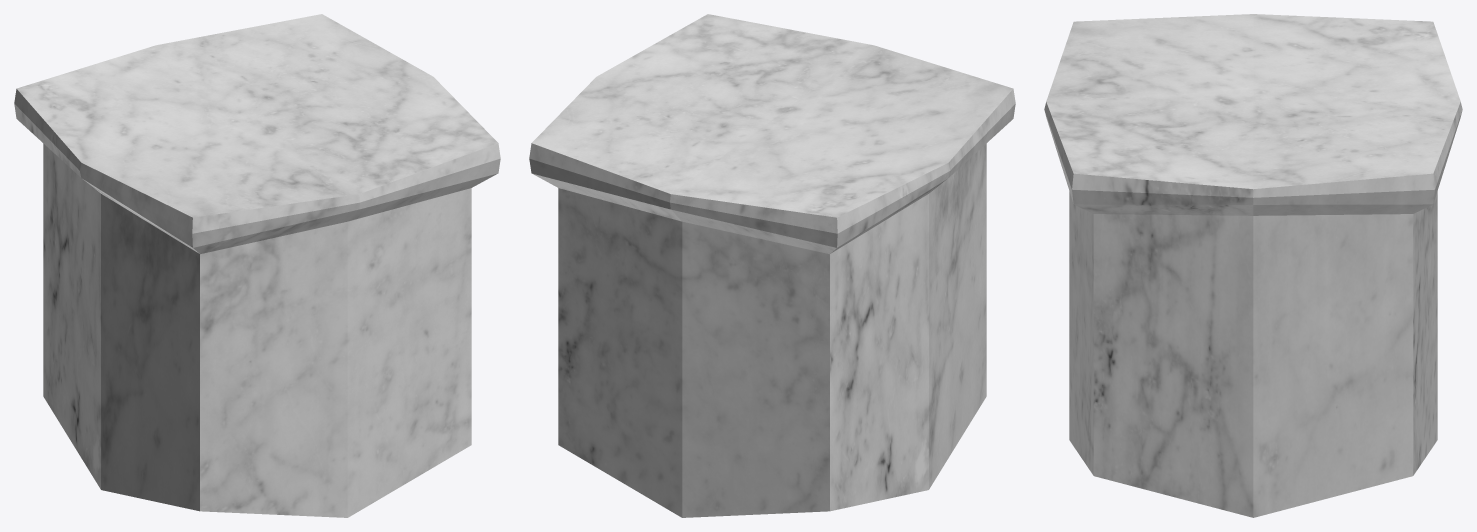
The model's file is pedestal.obj.
The picture shows the model from 3 angles, left to right: view 1: azimuth 30°, elevation 25°; view 2: azimuth 150°, elevation 25°; view 3: azimuth 270°, elevation 25°; orthographic projection.
Parts seen in each view (by area): view 1: Cube; view 2: Cube; view 3: Cube.
Part boxes in pixels (x1,y1,x2,y2): Cube: (14, 14, 500, 517); Cube: (529, 14, 1015, 517); Cube: (1044, 14, 1462, 517).
Bounding box in the file's own units: 2.62 × 2.37 × 2.62.
